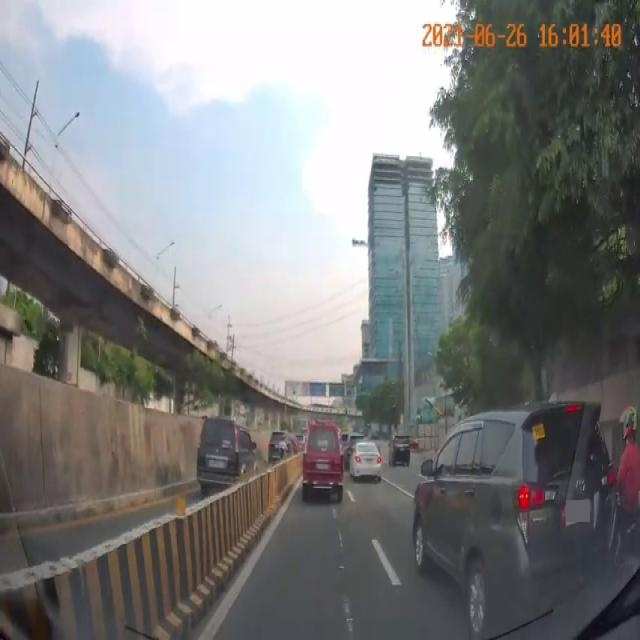car: (411, 400, 605, 608), (189, 423, 260, 497), (301, 418, 343, 508), (351, 438, 388, 489), (390, 433, 414, 465)
